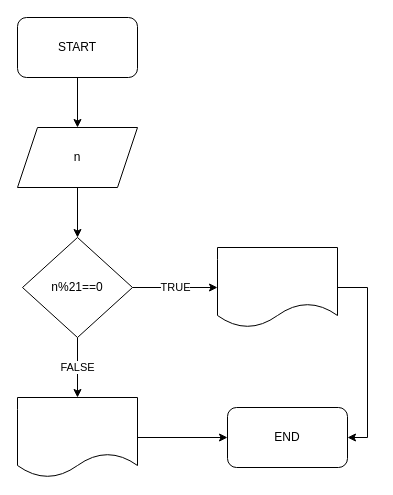
Image size: 393x495. Some labels were removed from this diagram. The shapes that lost their labels are listed below. From the top down, each one's centre as x and y in pixels, then its label:
(277,287): Print("n ədədi 3-ə və 7-ə bölünür")
(77,437): Print ("n ədədi 3-ə və 7-ə bölünmür")
